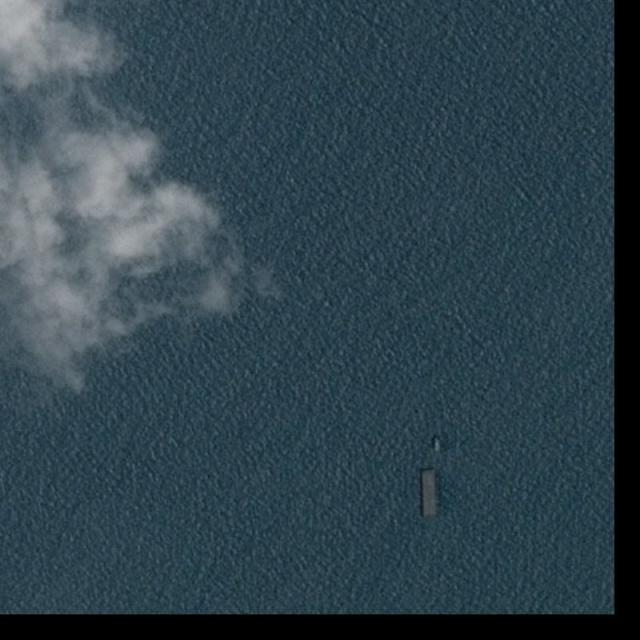ship: (420, 469, 437, 518), (434, 437, 441, 452)
